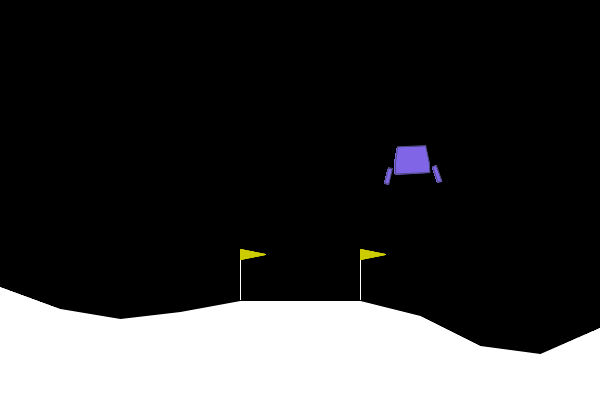lander: (381, 143, 443, 186)
